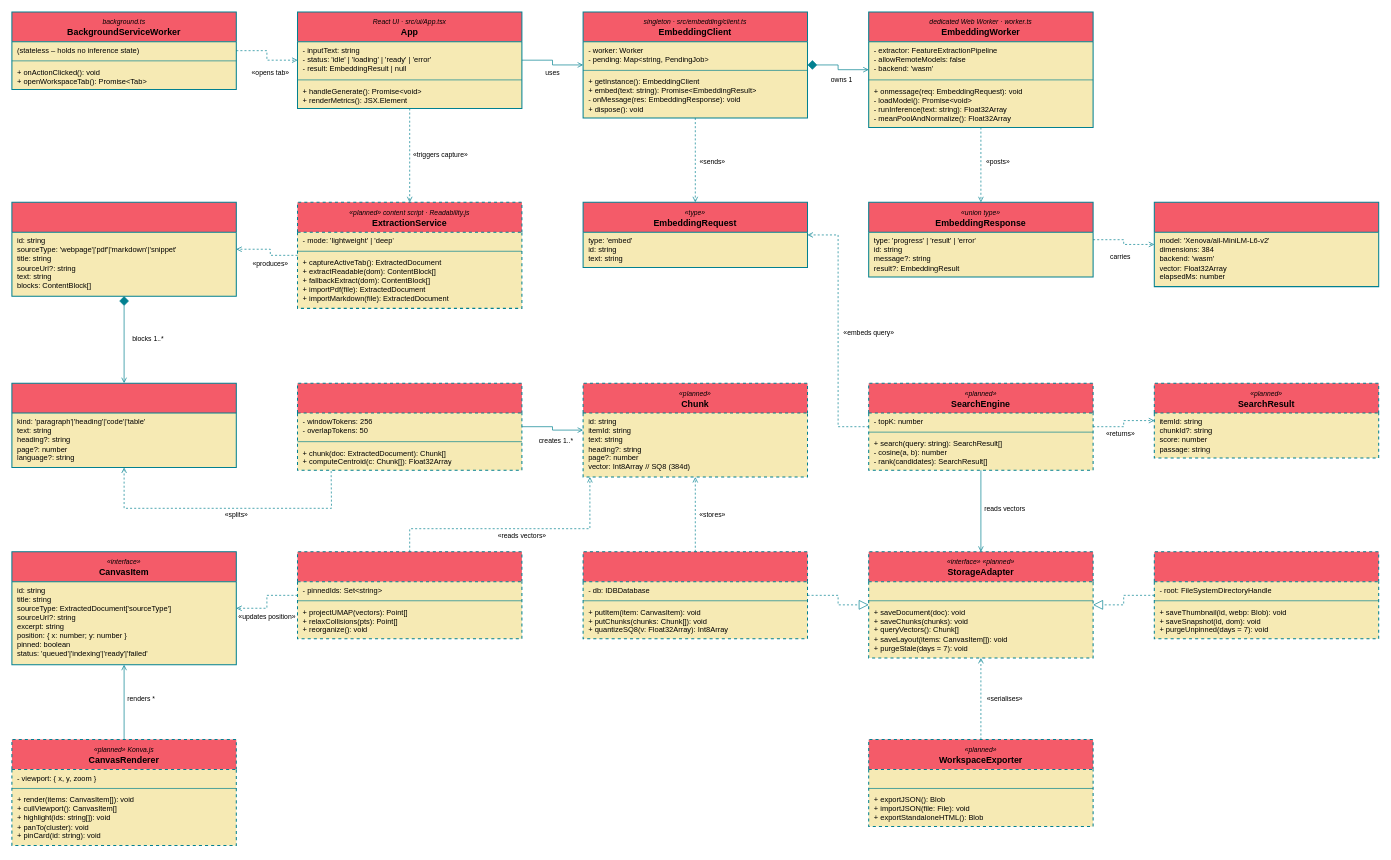
Some shapes in this 1391 by 860 pixel diagram are drawn without their labels. Each missing label, with the box of its shape:
«interface» ContentBlock: (11, 382, 237, 468)
«interface» EmbeddingResult: (1153, 201, 1379, 287)
«interface» ExtractedDocument: (11, 201, 237, 296)
«planned» Chunker: (297, 382, 522, 470)
«planned» cold tier OPFSAdapter: (1153, 551, 1379, 639)
«planned» hot tier IndexedDBAdapter: (582, 551, 808, 639)
«planned» UMAP Web Worker LayoutWorker: (297, 551, 522, 639)
